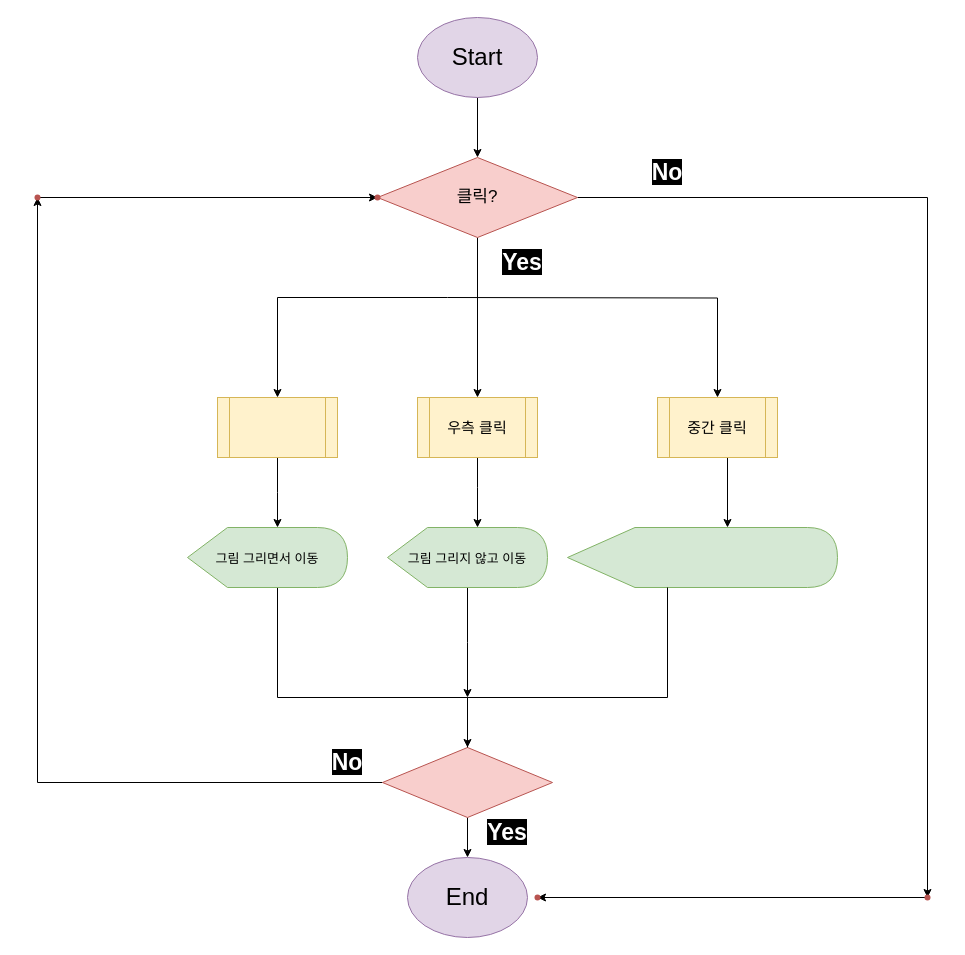
Some shapes in this 965 by 955 pixel diagram are drawn without their labels. The centre of each missing label's shape, as x and y in pixels:
"모양 바뀜 / 클릭 위치에 별모양 생성 / 원래 위치로 다시 돌아옴" goes at point (702, 557).
"종료?" goes at point (467, 782).
"좌측 클릭" goes at point (277, 427).
